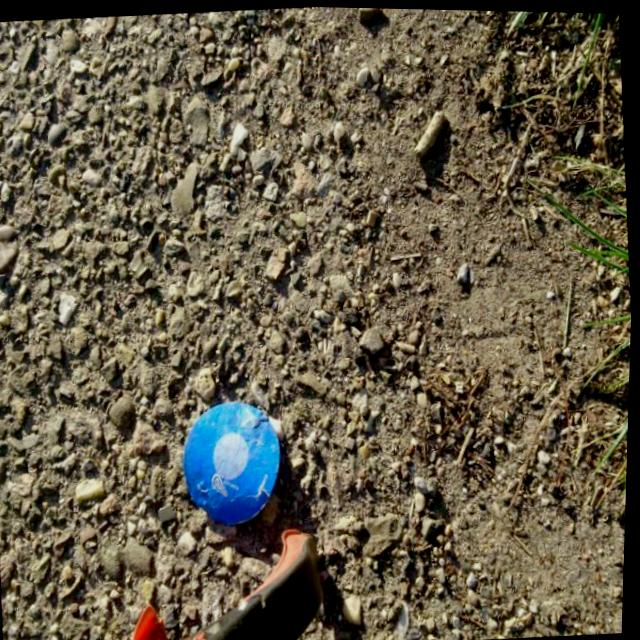Paper: (179, 391, 293, 530)
